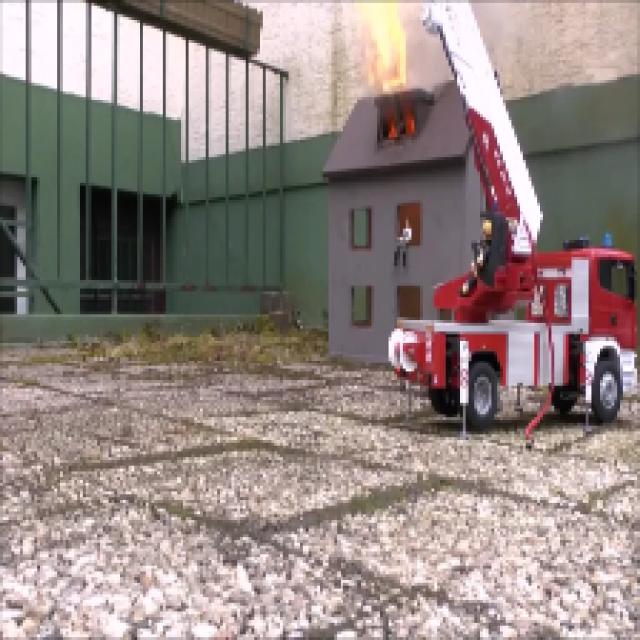fire: (362, 0, 405, 83)
